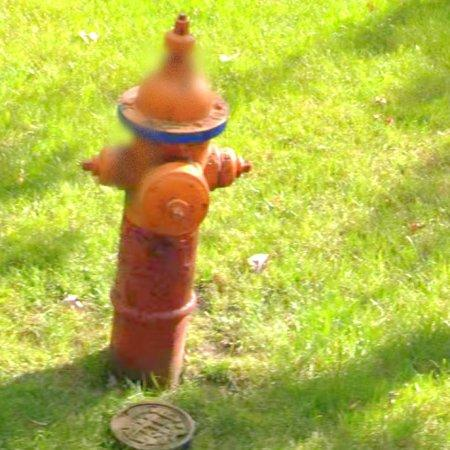a fire hydrant: (82, 15, 251, 386)
